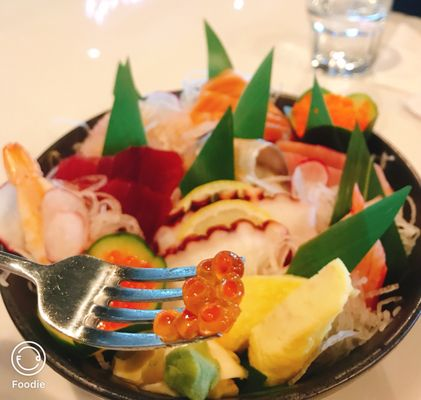pizza: (306, 0, 393, 76)
